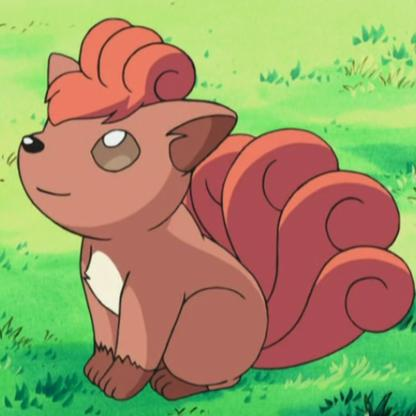Vulpix: (37, 18, 415, 398)
